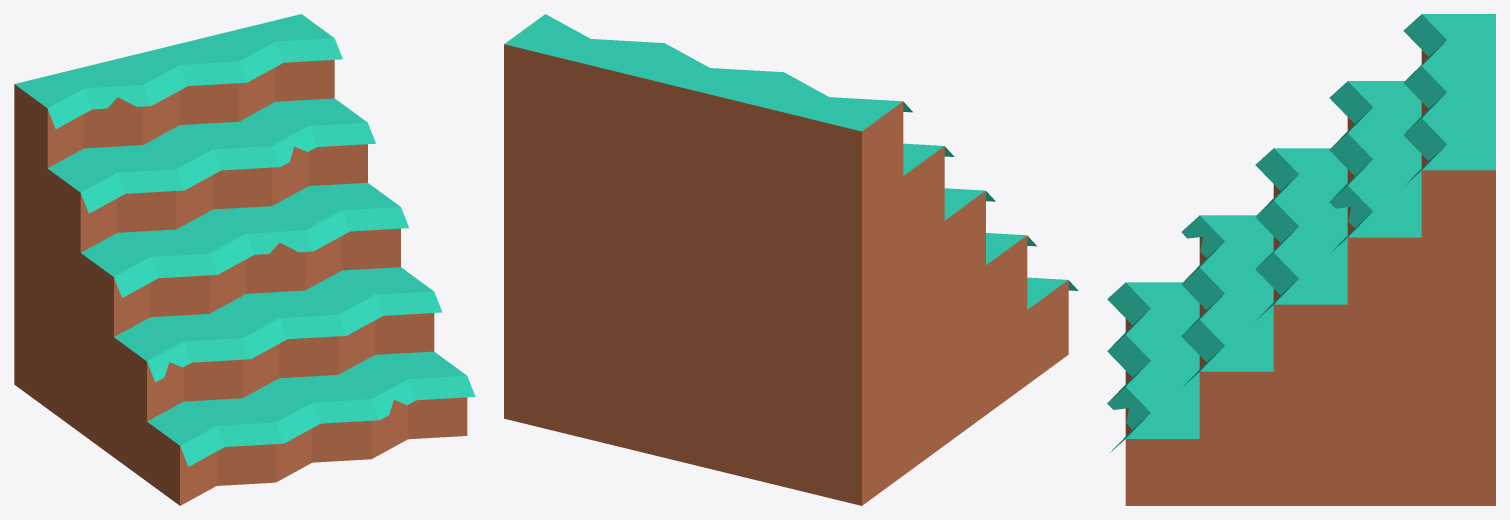
File: cliff_steps_rock.fbx
3 views of the same model, side by side, from view 1: azimuth 30°, elevation 25°; view 2: azimuth 150°, elevation 25°; view 3: azimuth 270°, elevation 25° (orthographic). The views are drawn at different scales.
Parts seen in each view (by area): view 1: cliff_steps_rock; view 2: cliff_steps_rock; view 3: cliff_steps_rock.
Boxes of the visible parts, <box> form: cliff_steps_rock: <box>14,14,475,505</box>; cliff_steps_rock: <box>504,14,1078,505</box>; cliff_steps_rock: <box>1107,14,1495,505</box>.
Size of the model in its own units: 10 by 10 by 10.5.
